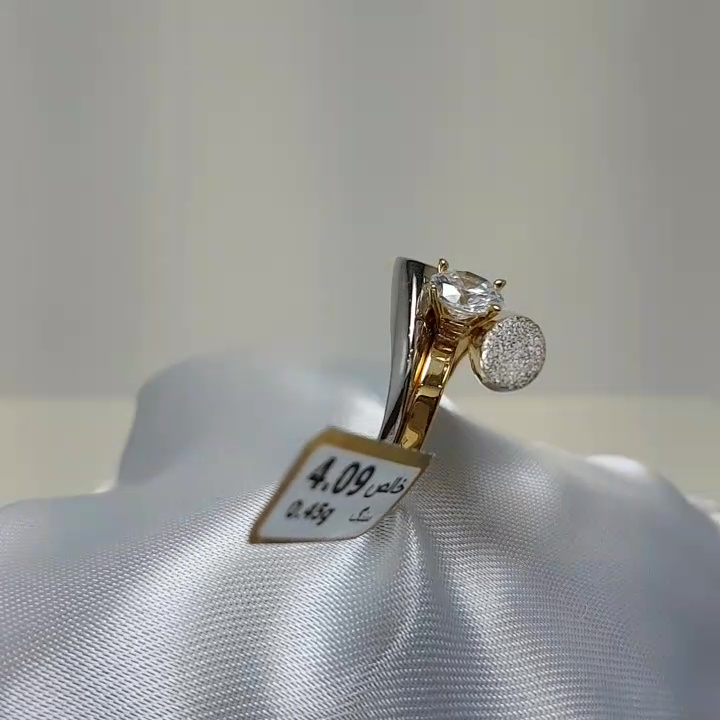Ring 7: (308, 238, 560, 534)
